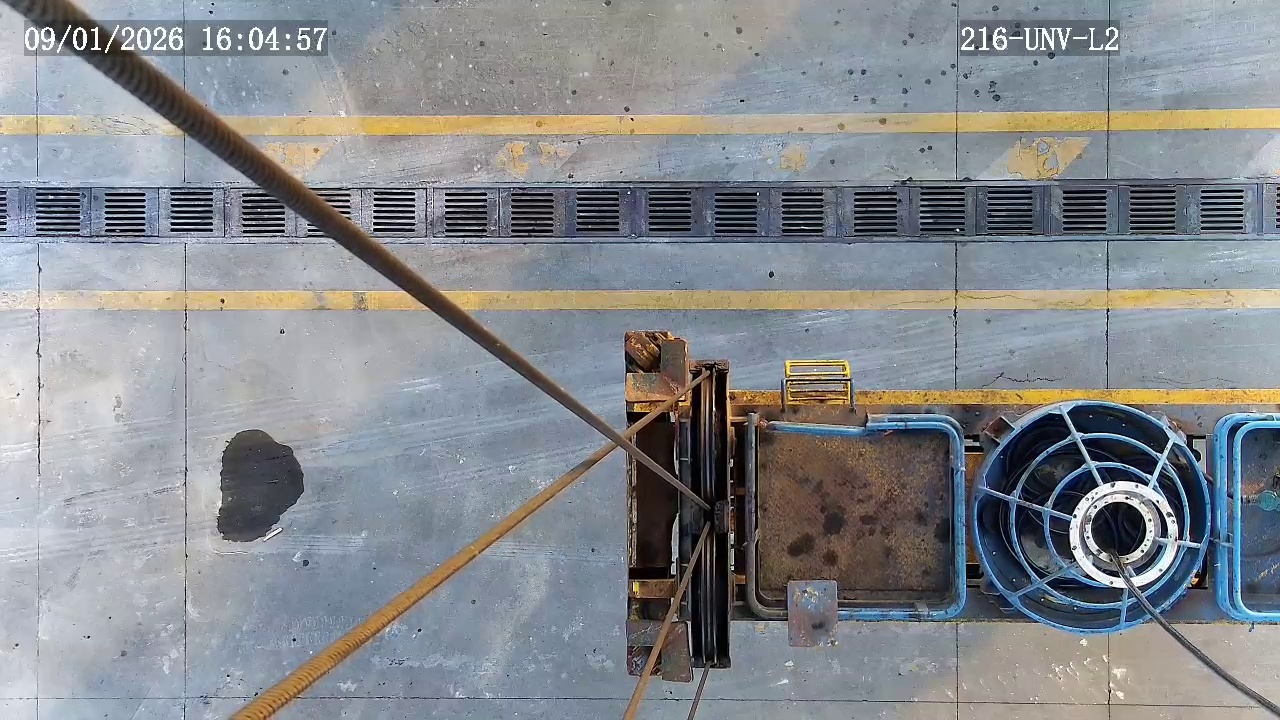left: (974, 402, 1211, 634)
